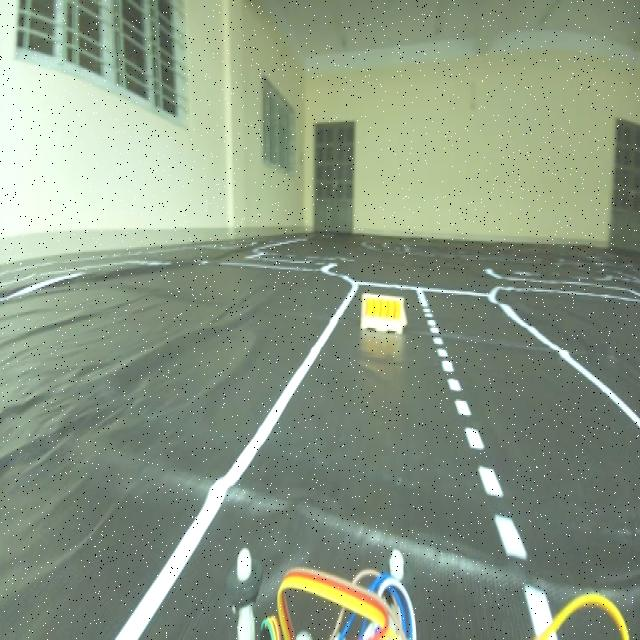roadblock: (352, 289, 408, 343)
